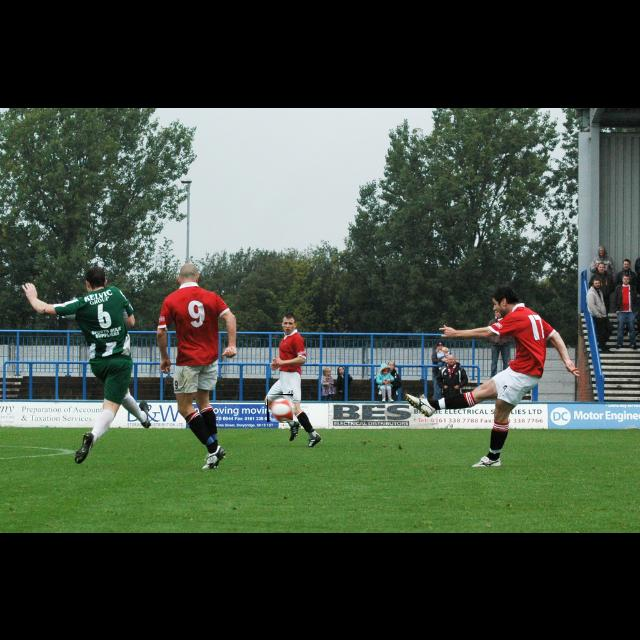Football: (267, 394, 293, 422)
